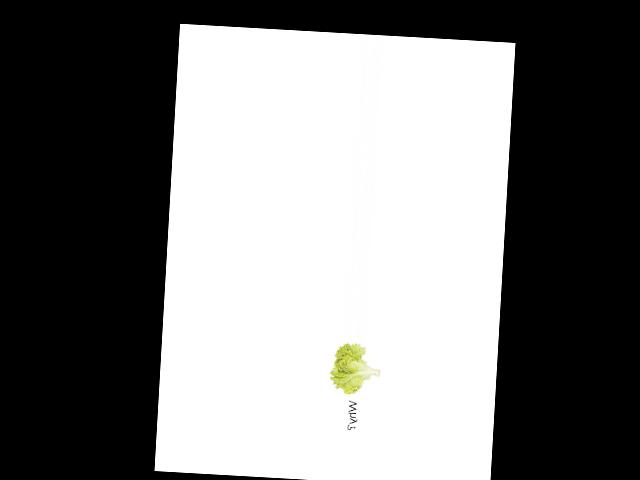lettuce: (328, 340, 382, 400)
